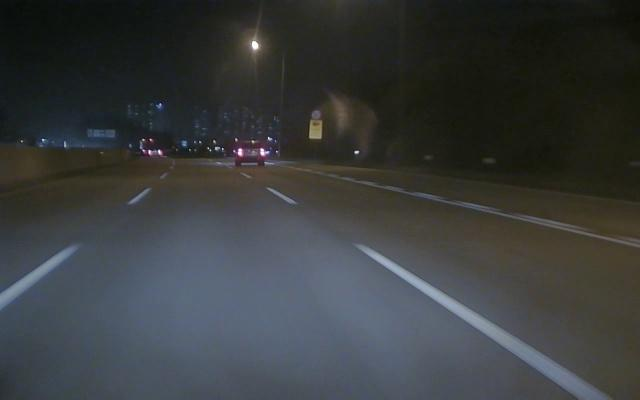lane: (272, 188, 610, 399), (328, 172, 640, 249), (2, 191, 147, 308)
